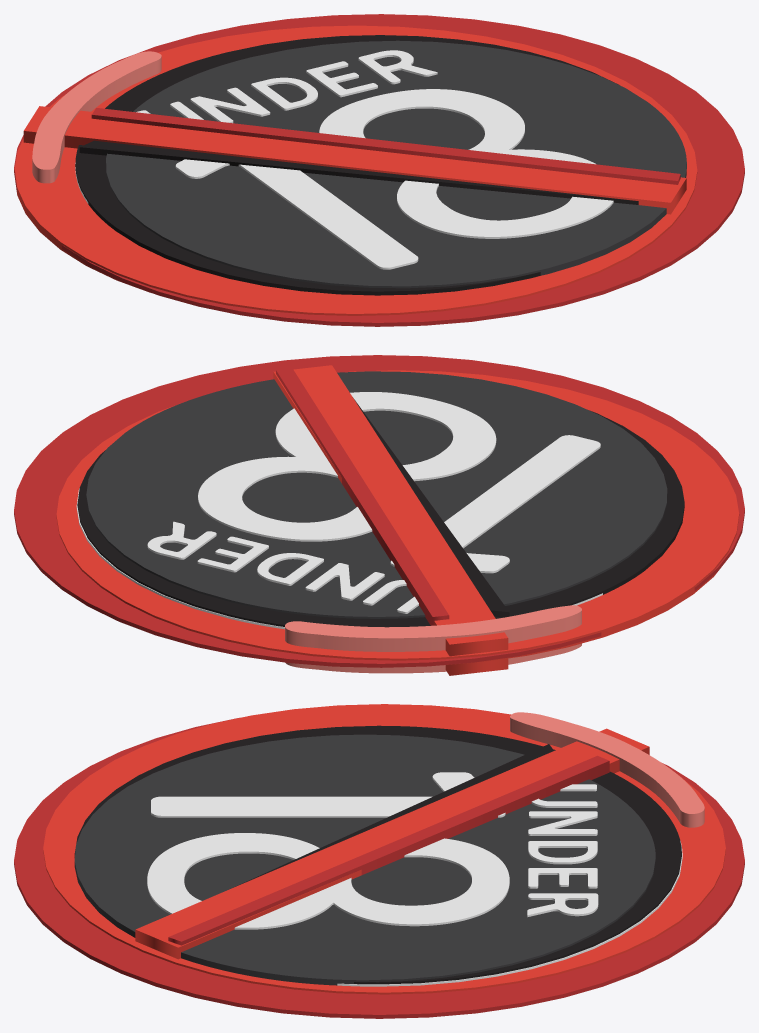
File: emoji_u1f51e.glb
3 views of the same model, one above another, from view 1: azimuth 30°, elevation 25°; view 2: azimuth 150°, elevation 25°; view 3: azimuth 270°, elevation 25° (orthographic).
Parts seen in each view (by area): view 1: emoji_u1f51e; view 2: emoji_u1f51e; view 3: emoji_u1f51e.
Part boxes in pixels (x1=…): emoji_u1f51e: x1=14, y1=14, x2=744, y2=326; emoji_u1f51e: x1=14, y1=355, x2=744, y2=675; emoji_u1f51e: x1=14, y1=704, x2=744, y2=1018.
Bounding box in the file's own units: 0.0339 × 0.002 × 0.0339.
